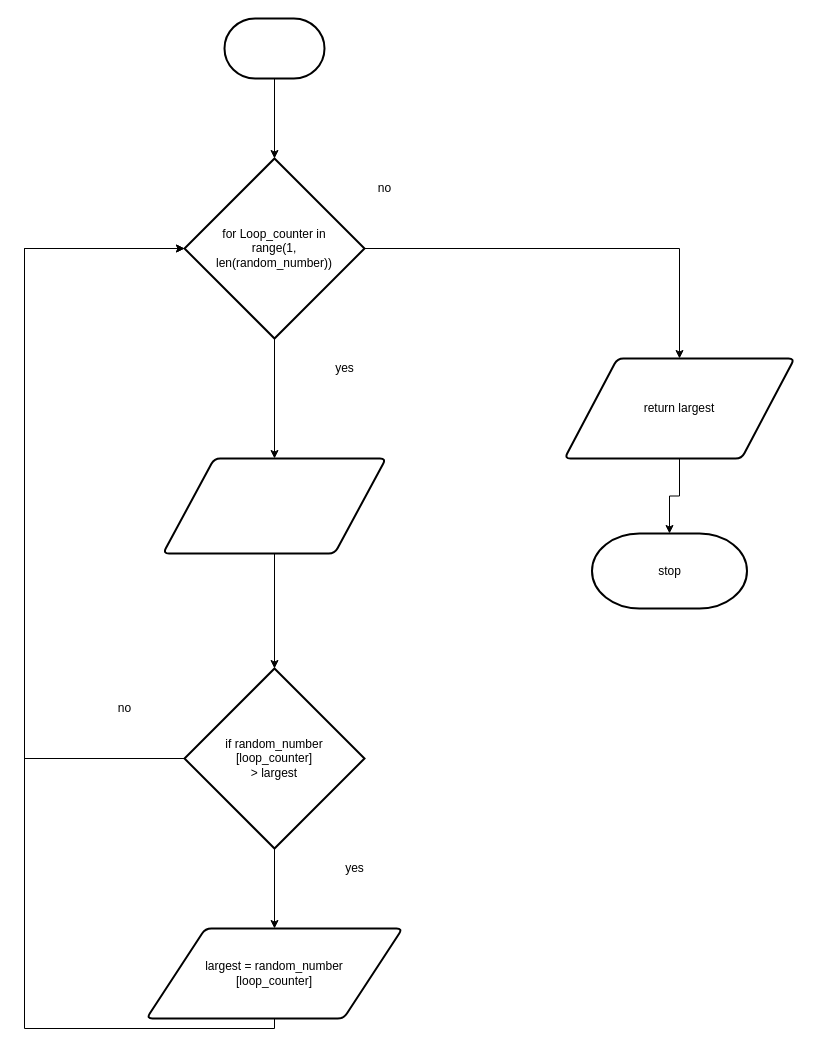
This 813x1054 diagram has some shape labels left out. The centre of each missing label's shape, as x and y in pixels:
print" the random number (loop_counter, random_number [loop_counter])": point (274, 505)
Start: point (274, 48)
